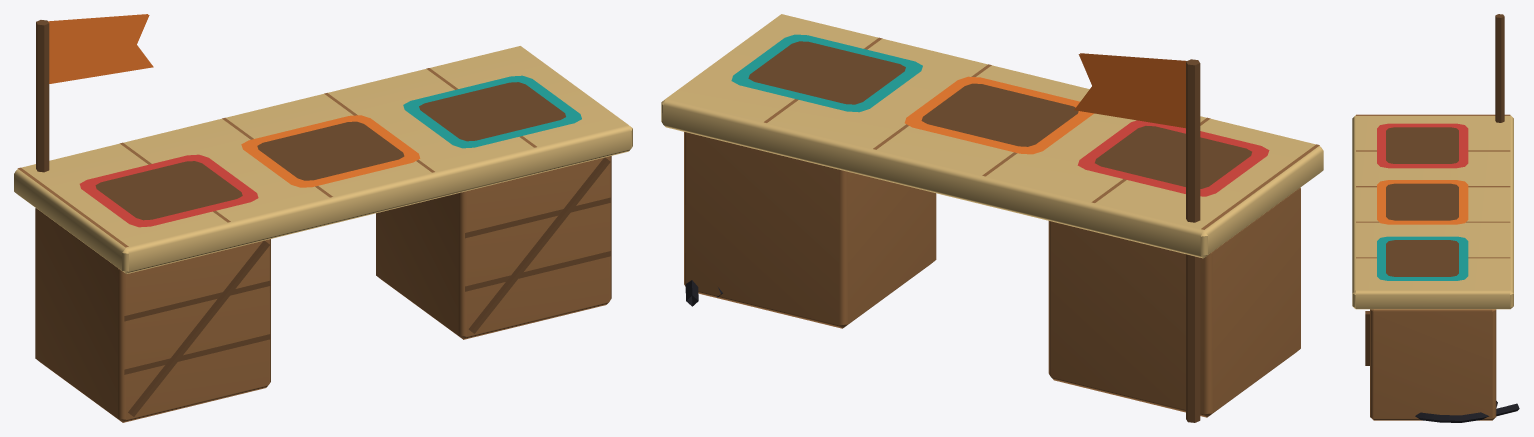
File: EstacionRadio.fbx
3 renders of one model, left to right at view 1: azimuth 30°, elevation 25°; view 2: azimuth 150°, elevation 25°; view 3: azimuth 270°, elevation 25°, orthographic. The views are drawn at different scales.
Visible parts, largest first — view 1: EstacionRadio; view 2: EstacionRadio; view 3: EstacionRadio.
Part boxes in pixels (box(x1,y1,x2,y2)): EstacionRadio: box(14, 14, 632, 422); EstacionRadio: box(661, 14, 1323, 422); EstacionRadio: box(1352, 14, 1519, 422).
Size of the model in its own units: 6.06 by 3.75 by 2.38.
1 material, 1 textured.
